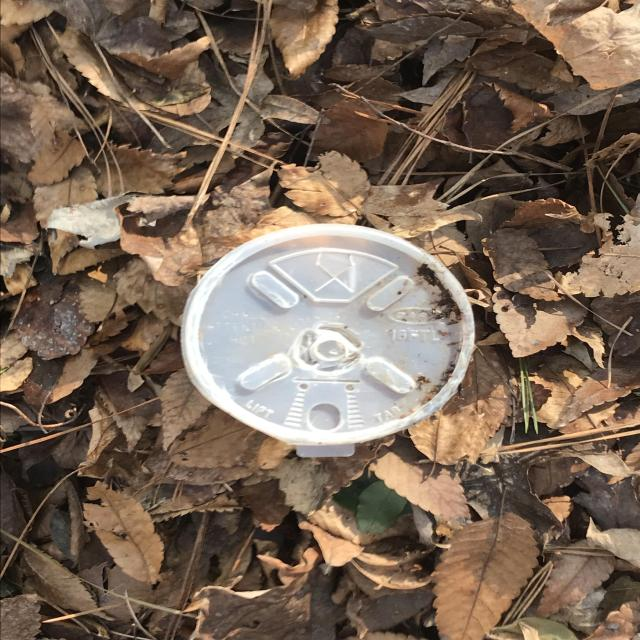litter: (185, 228, 472, 443)
